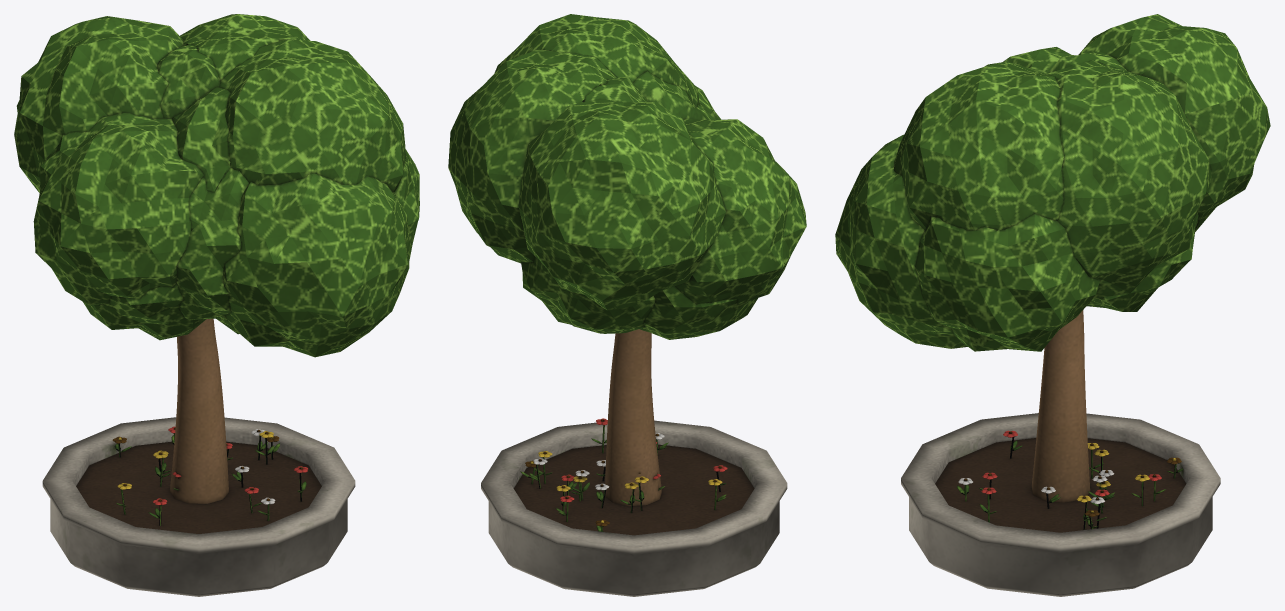
File: cenario_arvore_praca.glb
3 renders of one model, left to right at view 1: azimuth 30°, elevation 25°; view 2: azimuth 150°, elevation 25°; view 3: azimuth 270°, elevation 25°, orthographic. The views are drawn at different scales.
Parts seen in each view (by area): view 1: cenario_arvore_praca; view 2: cenario_arvore_praca; view 3: cenario_arvore_praca.
Part boxes in pixels (x1,y1,x2,y2): cenario_arvore_praca: (14,14,419,596); cenario_arvore_praca: (448,14,806,596); cenario_arvore_praca: (835,14,1270,596).
Size of the model in its own units: 3.61 by 4.88 by 3.87.
Materials: 1 (1 with a texture image).
